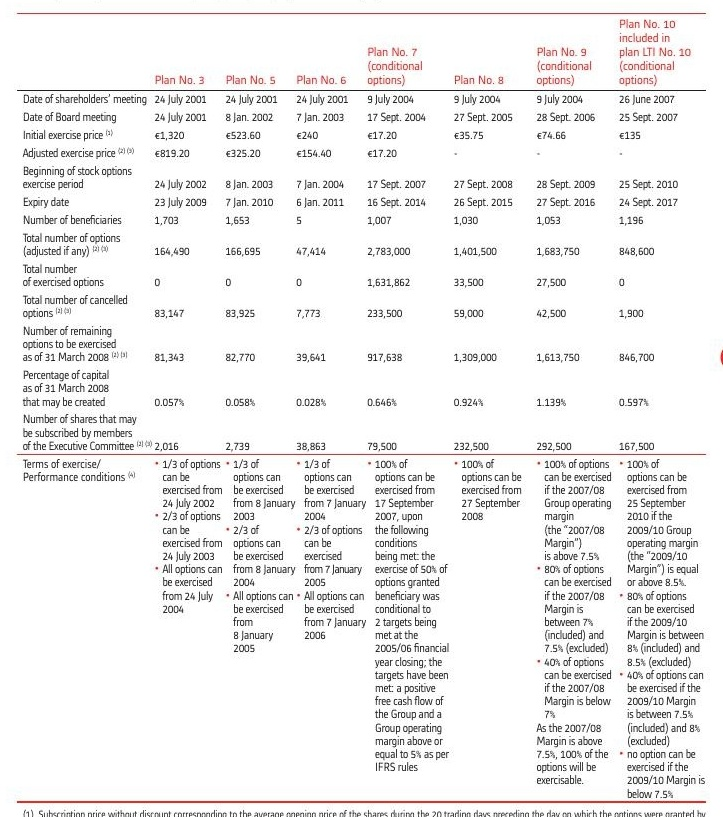table: (0, 0, 723, 817)
